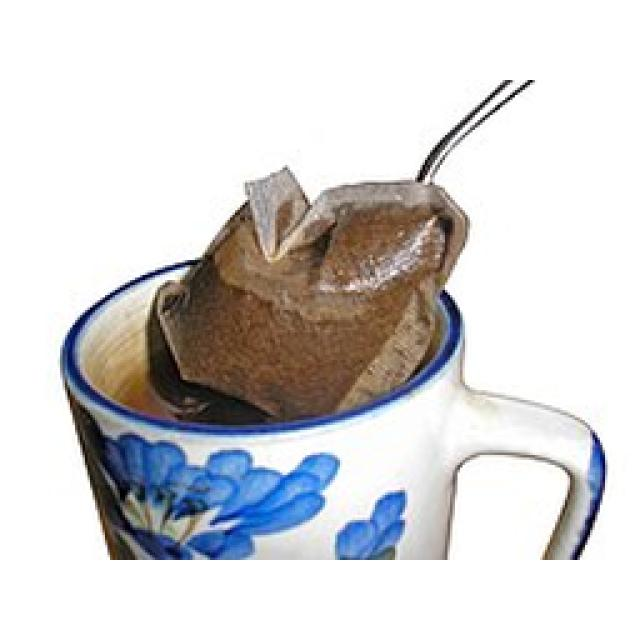tea-bags: (150, 168, 468, 420)
